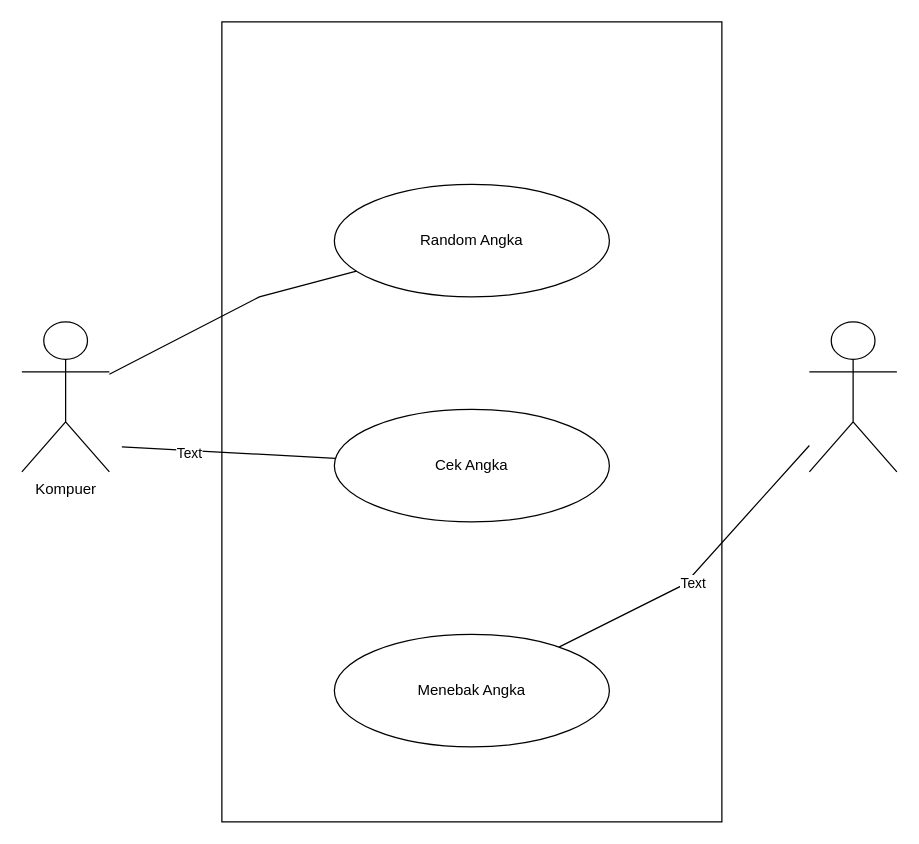
This 919x844 diagram has some shape labels left out. The box of each missing label's shape, as (x1, y1, x2, y2) in pixels:
Game Tebak Angka: (221, 21, 722, 822)
Pemain: (808, 321, 897, 472)
